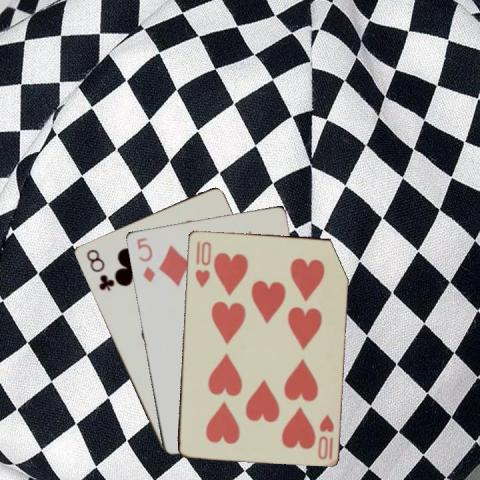10h: (192, 238, 212, 289), (314, 411, 334, 461)
5d: (133, 234, 156, 283)
8c: (82, 246, 114, 293)
